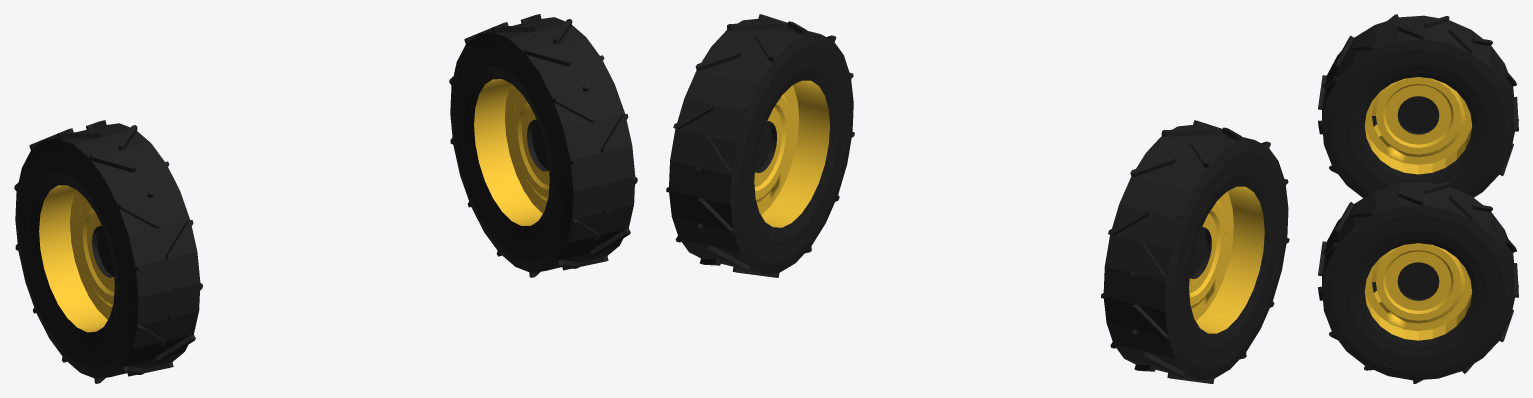
File: Rear_Combine_Tires.fbx
The picture shows the model from 3 angles, left to right: view 1: azimuth 30°, elevation 25°; view 2: azimuth 150°, elevation 25°; view 3: azimuth 270°, elevation 25°; orthographic projection. The views are drawn at different scales.
Parts seen in each view (by area): view 1: Group3, Group2; view 2: Group3, Group2; view 3: Group2, Group3.
Part boxes in pixels (left/top/right/bottom): Group3: left=14, top=120, right=202, bottom=383; Group2: left=449, top=14, right=637, bottom=277; Group3: left=1101, top=120, right=1289, bottom=383; Group2: left=666, top=14, right=854, bottom=277; Group2: left=1318, top=180, right=1518, bottom=383; Group3: left=1318, top=14, right=1518, bottom=198.
Bounding box in the file's own units: 175 × 77.71 × 77.71.
